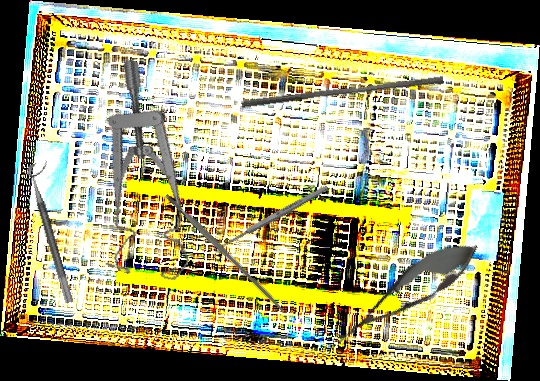Fixation Ring: (25, 160, 86, 304)
Micro Scissor: (327, 227, 488, 358)
Pusher: (241, 69, 444, 116)
Scalpel Handle: (164, 192, 286, 313)
Speculum: (65, 58, 240, 290)
Surgical Spoon: (212, 183, 330, 254)
